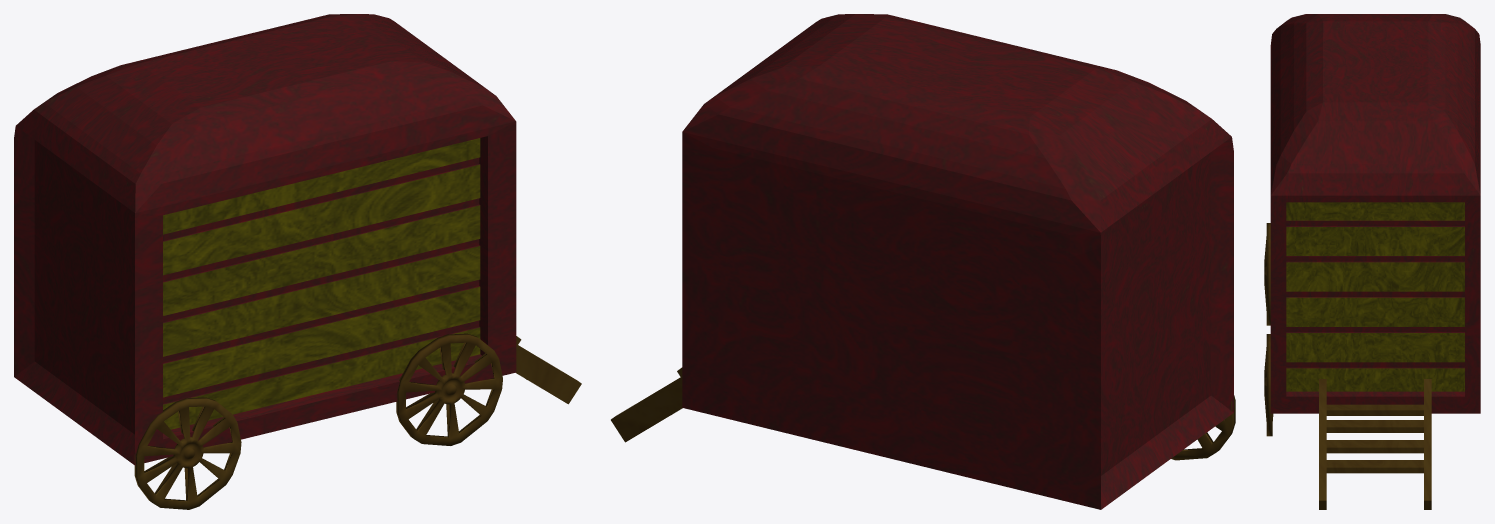
Rendered from vuz.fbx.
3 views of the same model, side by side, from view 1: azimuth 30°, elevation 25°; view 2: azimuth 150°, elevation 25°; view 3: azimuth 270°, elevation 25° (orthographic). The views are drawn at different scales.
Visible parts, largest first — view 1: Cube.029; view 2: Cube.029; view 3: Cube.029.
Part boxes in pixels (box(x1,y1,x2,y2)): Cube.029: box(14, 14, 581, 509); Cube.029: box(611, 14, 1235, 509); Cube.029: box(1264, 14, 1480, 509).
Size of the model in its own units: 1504 by 1163 by 683.
Materials: 1 (1 with a texture image).
